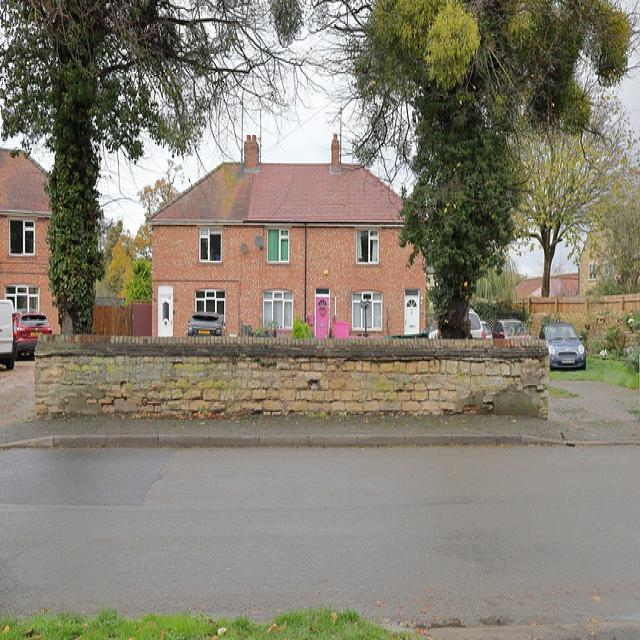building: (147, 139, 430, 338)
